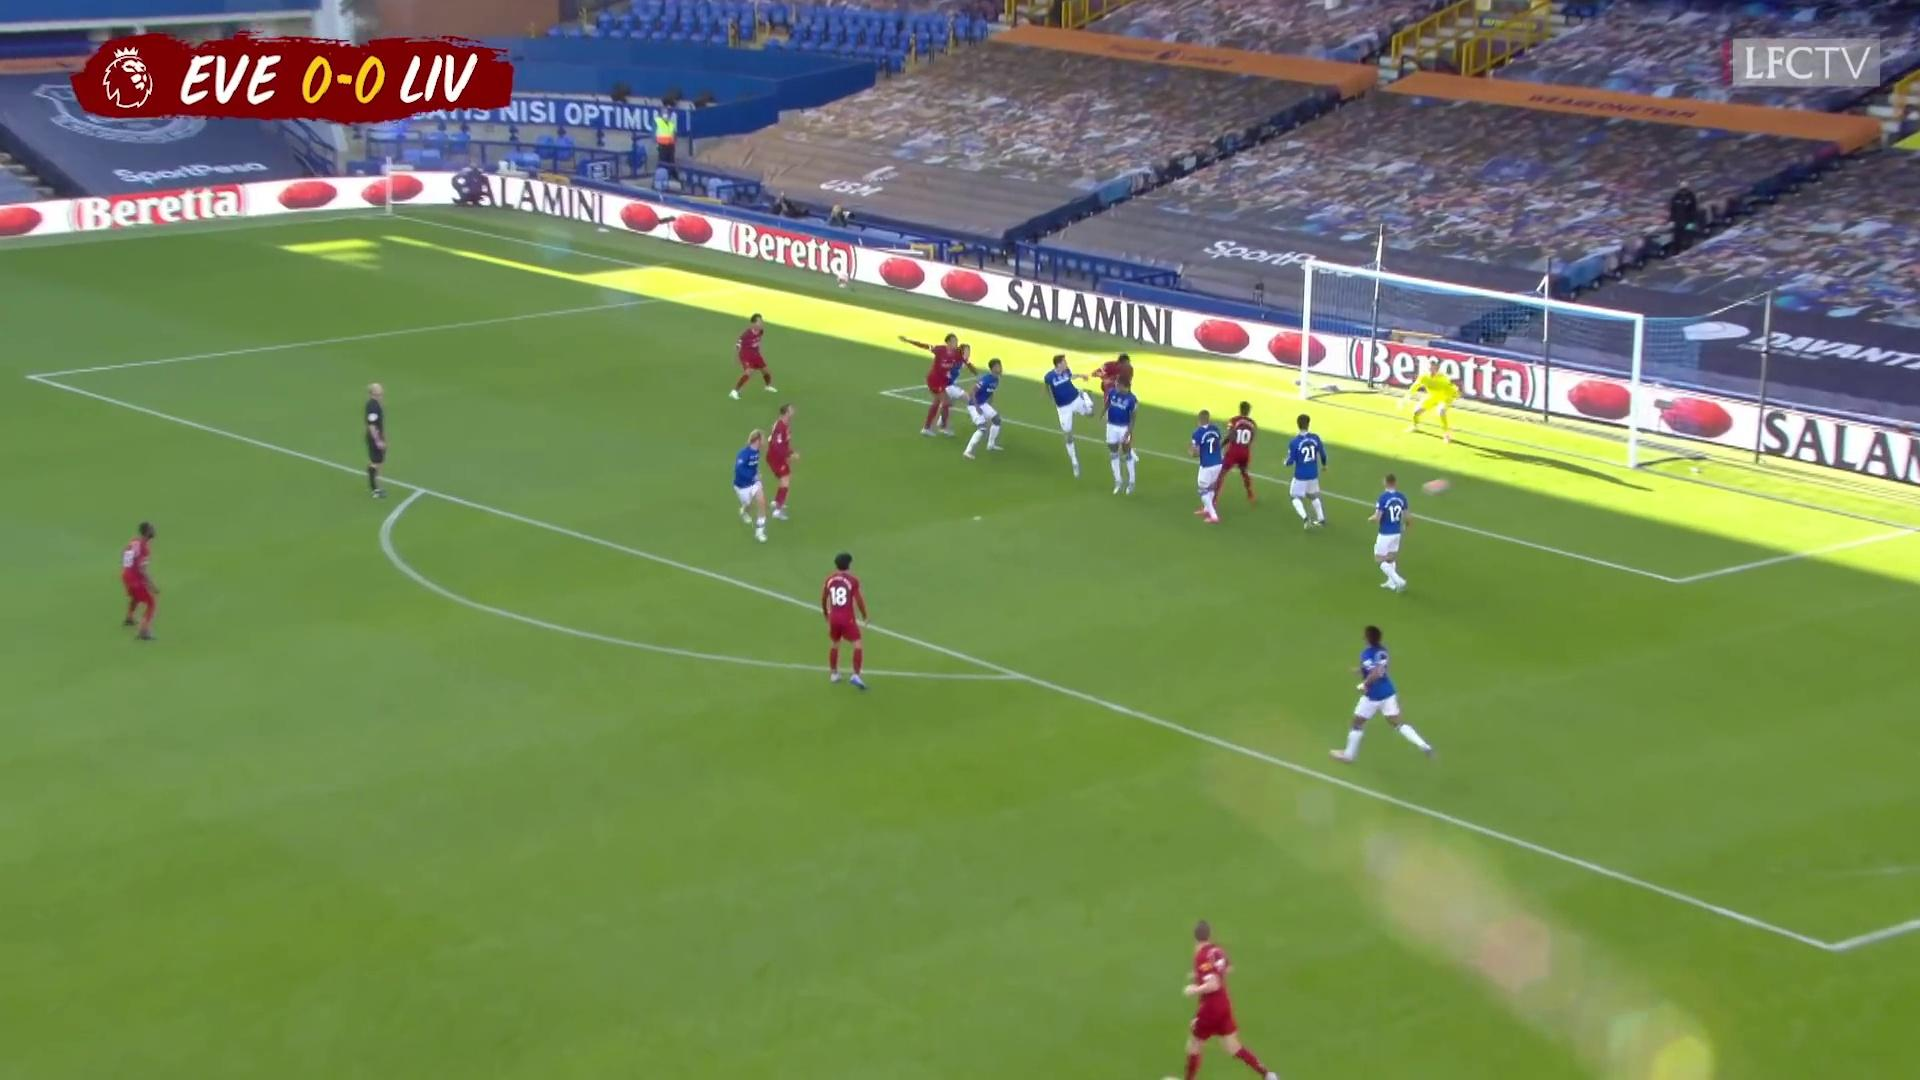ball: (1418, 474, 1456, 503)
goalkeeper: (1405, 363, 1461, 448)
player: (1165, 912, 1291, 1080), (1328, 622, 1438, 771), (897, 333, 979, 441), (817, 552, 878, 696), (1361, 472, 1417, 594), (1283, 411, 1335, 535), (116, 521, 164, 651), (1212, 400, 1266, 515), (758, 400, 803, 529), (962, 357, 1014, 462), (1097, 375, 1140, 501), (730, 425, 776, 541), (1093, 347, 1144, 446), (727, 312, 783, 402), (1042, 354, 1099, 441), (1190, 407, 1230, 527), (943, 343, 986, 439)
referee: (364, 377, 400, 503)
